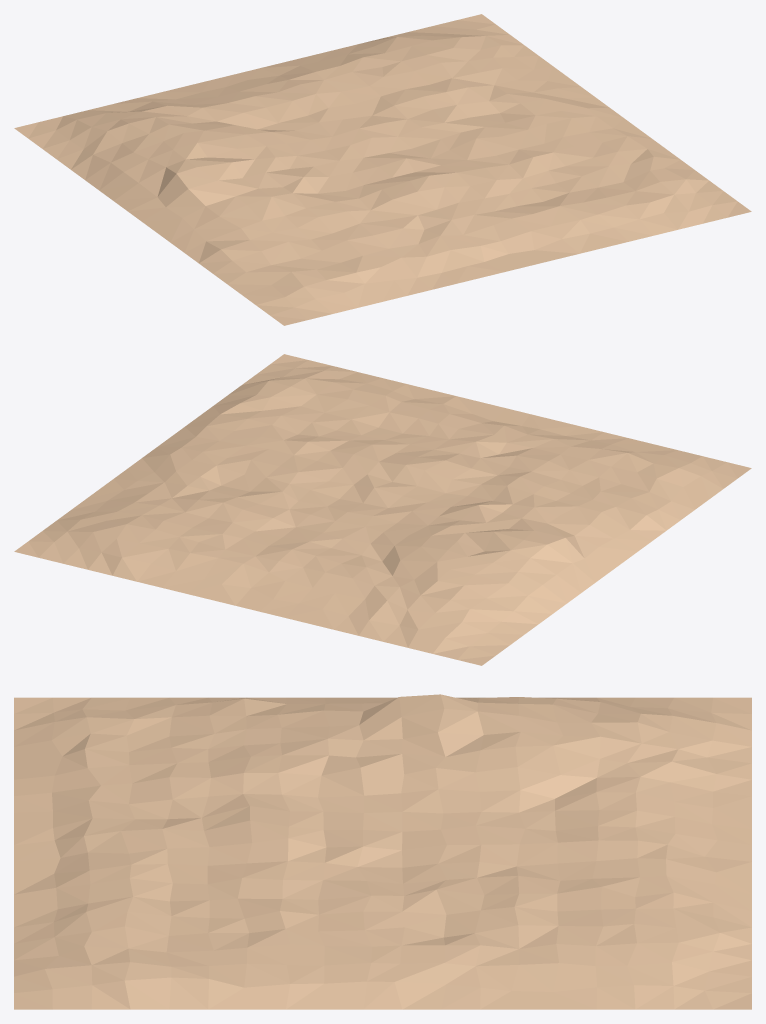
The model's file is marine-biome-top.glb.
The picture shows the model from 3 angles, top to bottom: view 1: azimuth 30°, elevation 25°; view 2: azimuth 150°, elevation 25°; view 3: azimuth 270°, elevation 25°; orthographic projection. The views are drawn at different scales.
Visible parts, largest first — view 1: Landscape-TOP; view 2: Landscape-TOP; view 3: Landscape-TOP.
Boxes of the visible parts, x1,y1,x2,y2 form: Landscape-TOP: (14,14,751,325); Landscape-TOP: (14,354,751,665); Landscape-TOP: (14,694,751,1009).
Size of the model in its own units: 15.35 by 0.8233 by 15.35.
1 material, 1 textured.
